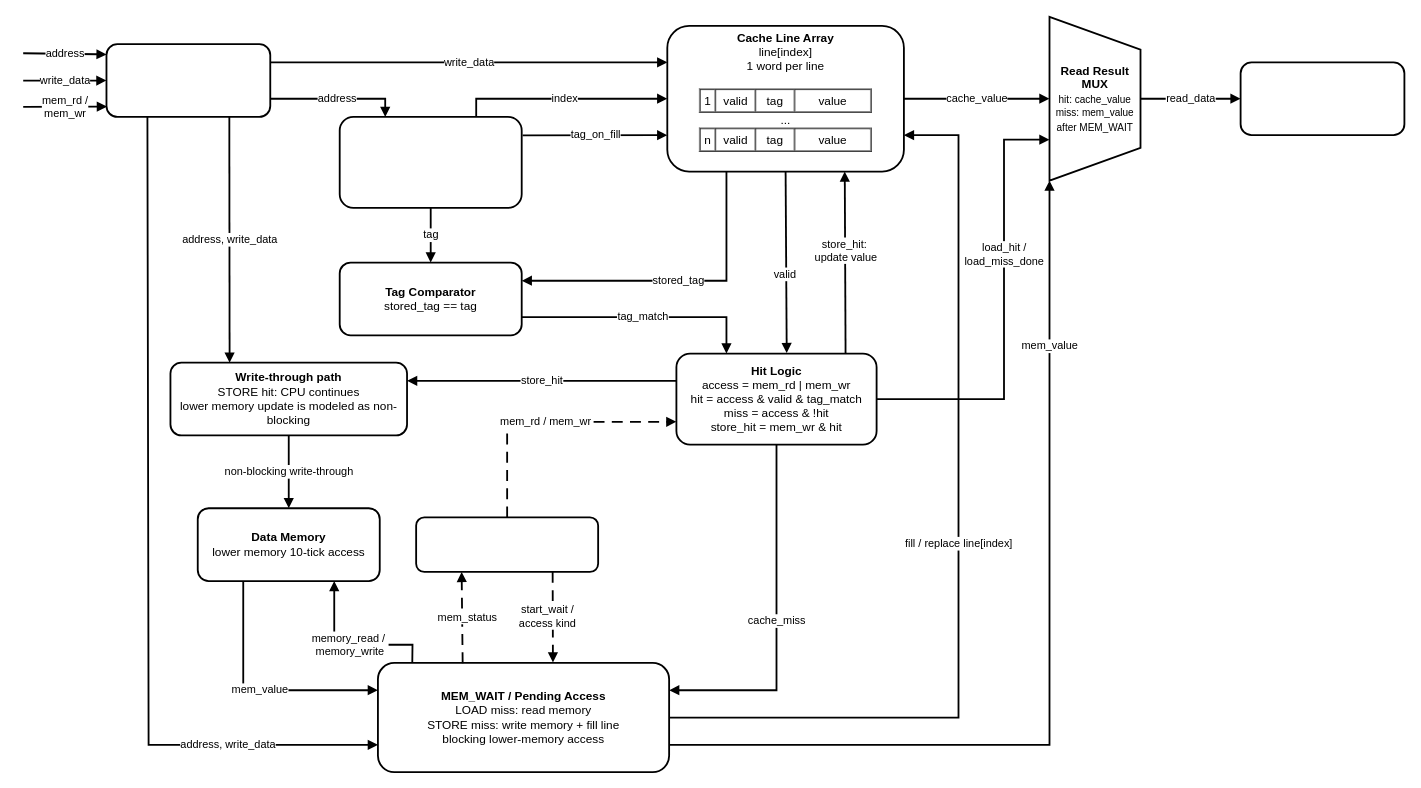
This 1421x788 diagram has some shape labels left out. Each missing label, with the centre of its shape:
"Address Split word address index = addr % line_count tag = addr // line_count" goes at (430,162).
"Control Unit" goes at (507,544).
"From Address Decoder regular memory only" goes at (188,80).
"To WriteBack MUX read_data → Data Stack" goes at (1322,98).
